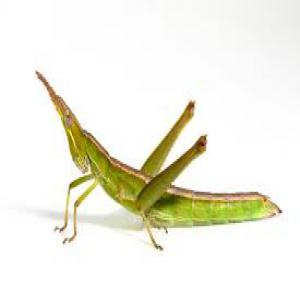locust: (38, 72, 285, 295)
